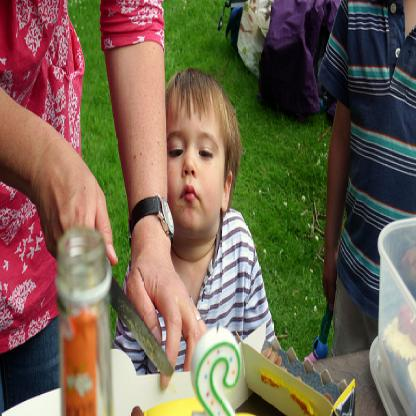backpack: (258, 2, 341, 124)
